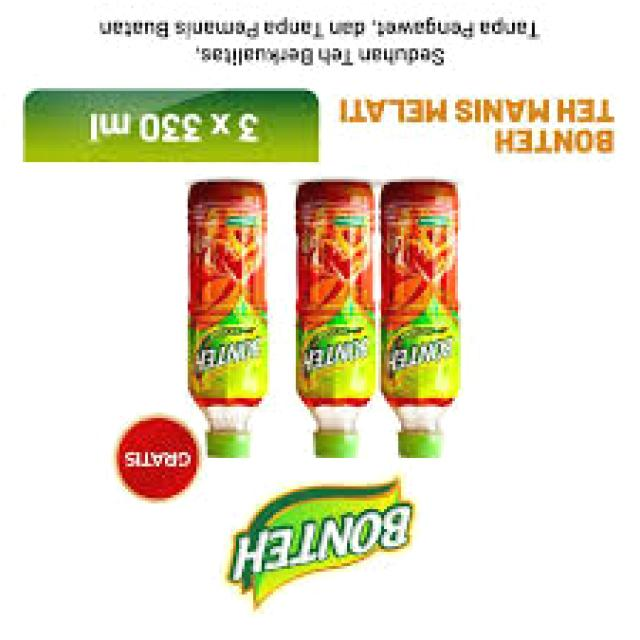bottle: (371, 171, 469, 466), (289, 175, 379, 471), (183, 173, 267, 468)
